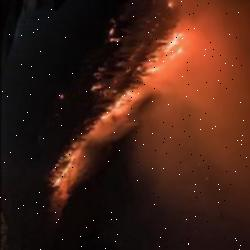fire: (38, 30, 192, 214)
